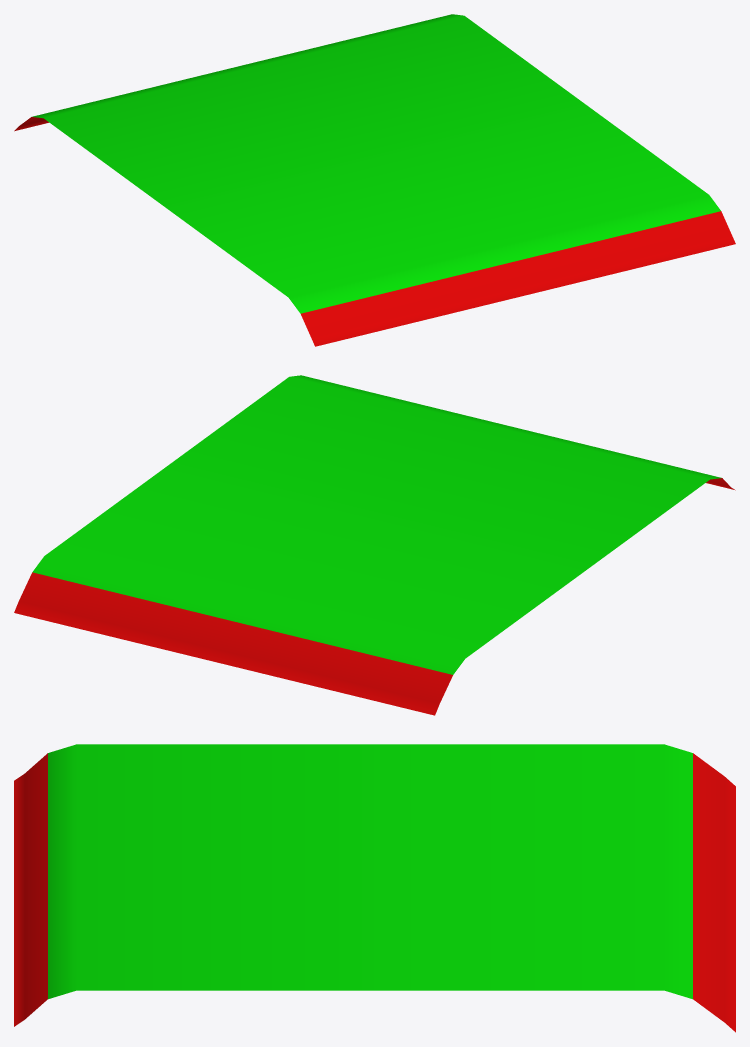
The model's file is Road_Spline_Model_For_UE5_Tutorial_-_Gorka_Games.fbx.
3 renders of one model, top to bottom at view 1: azimuth 30°, elevation 25°; view 2: azimuth 150°, elevation 25°; view 3: azimuth 270°, elevation 25°, orthographic. The views are drawn at different scales.
Visible parts, largest first — view 1: Plane; view 2: Plane; view 3: Plane.
Boxes of the visible parts, x1,y1,x2,y2 form: Plane: (14,14,735,346); Plane: (14,375,735,715); Plane: (14,744,735,1032).
Size of the model in its own units: 398 by 31.58 by 492.
